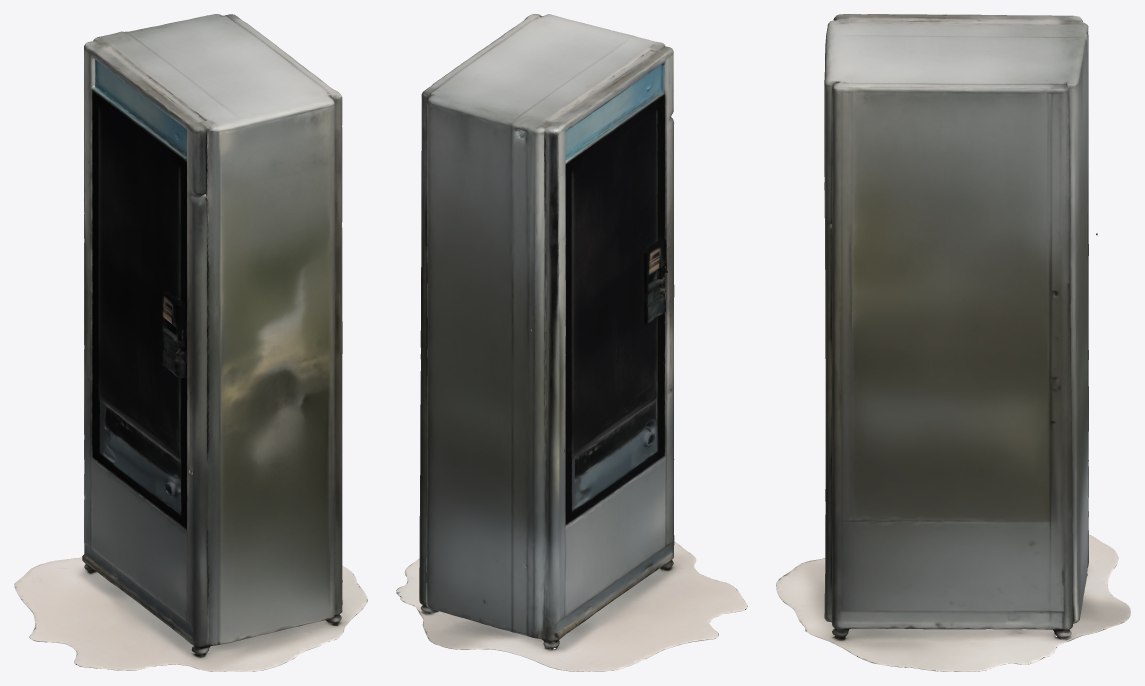
3 views of the same model, side by side, from view 1: azimuth 30°, elevation 25°; view 2: azimuth 150°, elevation 25°; view 3: azimuth 270°, elevation 25° (orthographic). The views are drawn at different scales.
Visible parts, largest first — view 1: geometry_0; view 2: geometry_0; view 3: geometry_0.
Boxes of the visible parts, x1,y1,x2,y2 form: geometry_0: (14, 14, 367, 671); geometry_0: (396, 14, 747, 671); geometry_0: (776, 14, 1130, 671).
Bounding box in the file's own units: 0.612 × 1 × 0.5805.
Materials: 1 (1 with a texture image).
